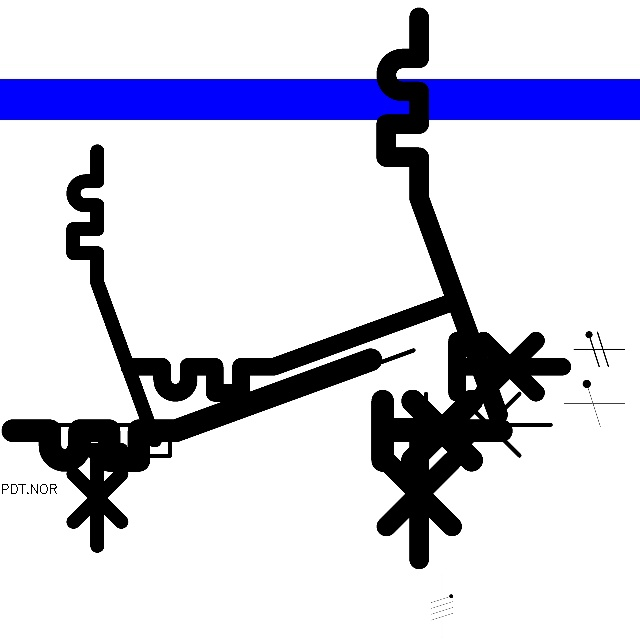interruptor_termomagnetico: (372, 3, 511, 573), (24, 337, 564, 469), (0, 347, 514, 473), (118, 293, 573, 404), (63, 141, 164, 556)
